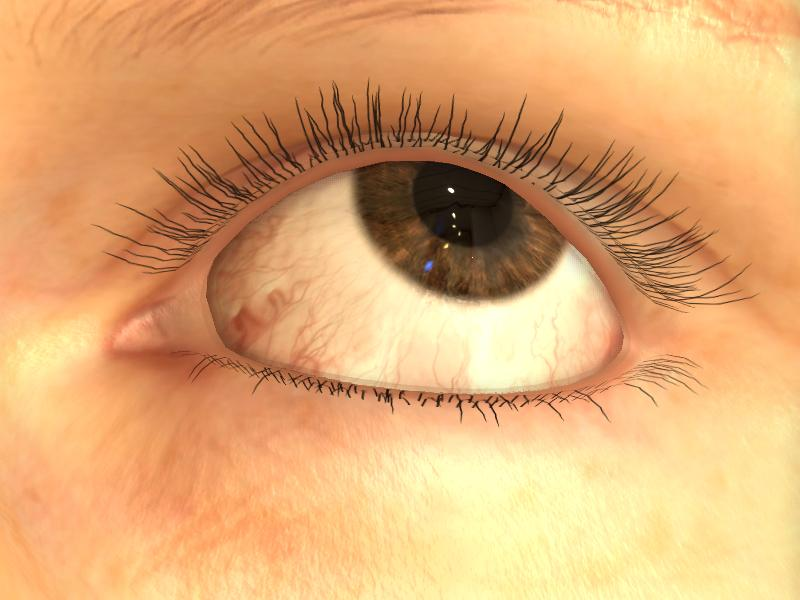eye: (355, 163, 569, 302)
